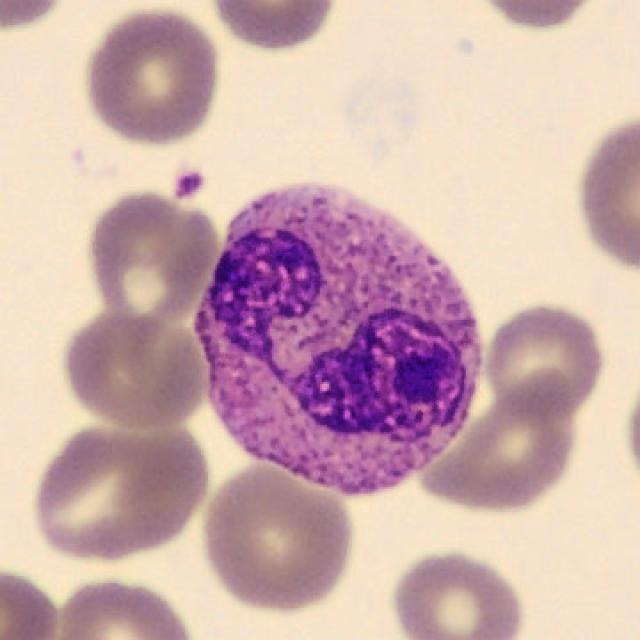Neutrofilo segmentado: (194, 183, 482, 498)
